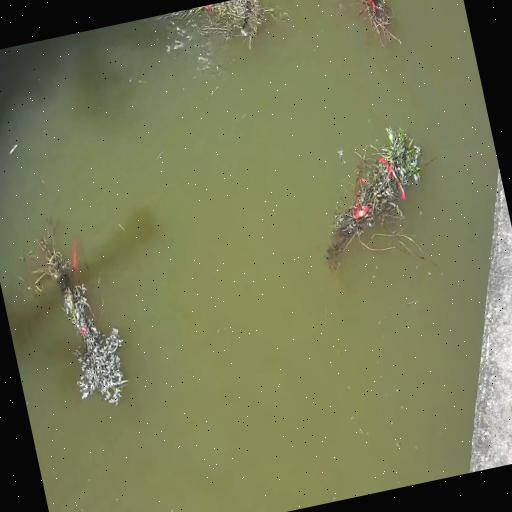twig: (11, 206, 137, 415), (301, 118, 447, 278), (191, 0, 282, 58), (17, 213, 77, 294), (340, 0, 402, 54)
